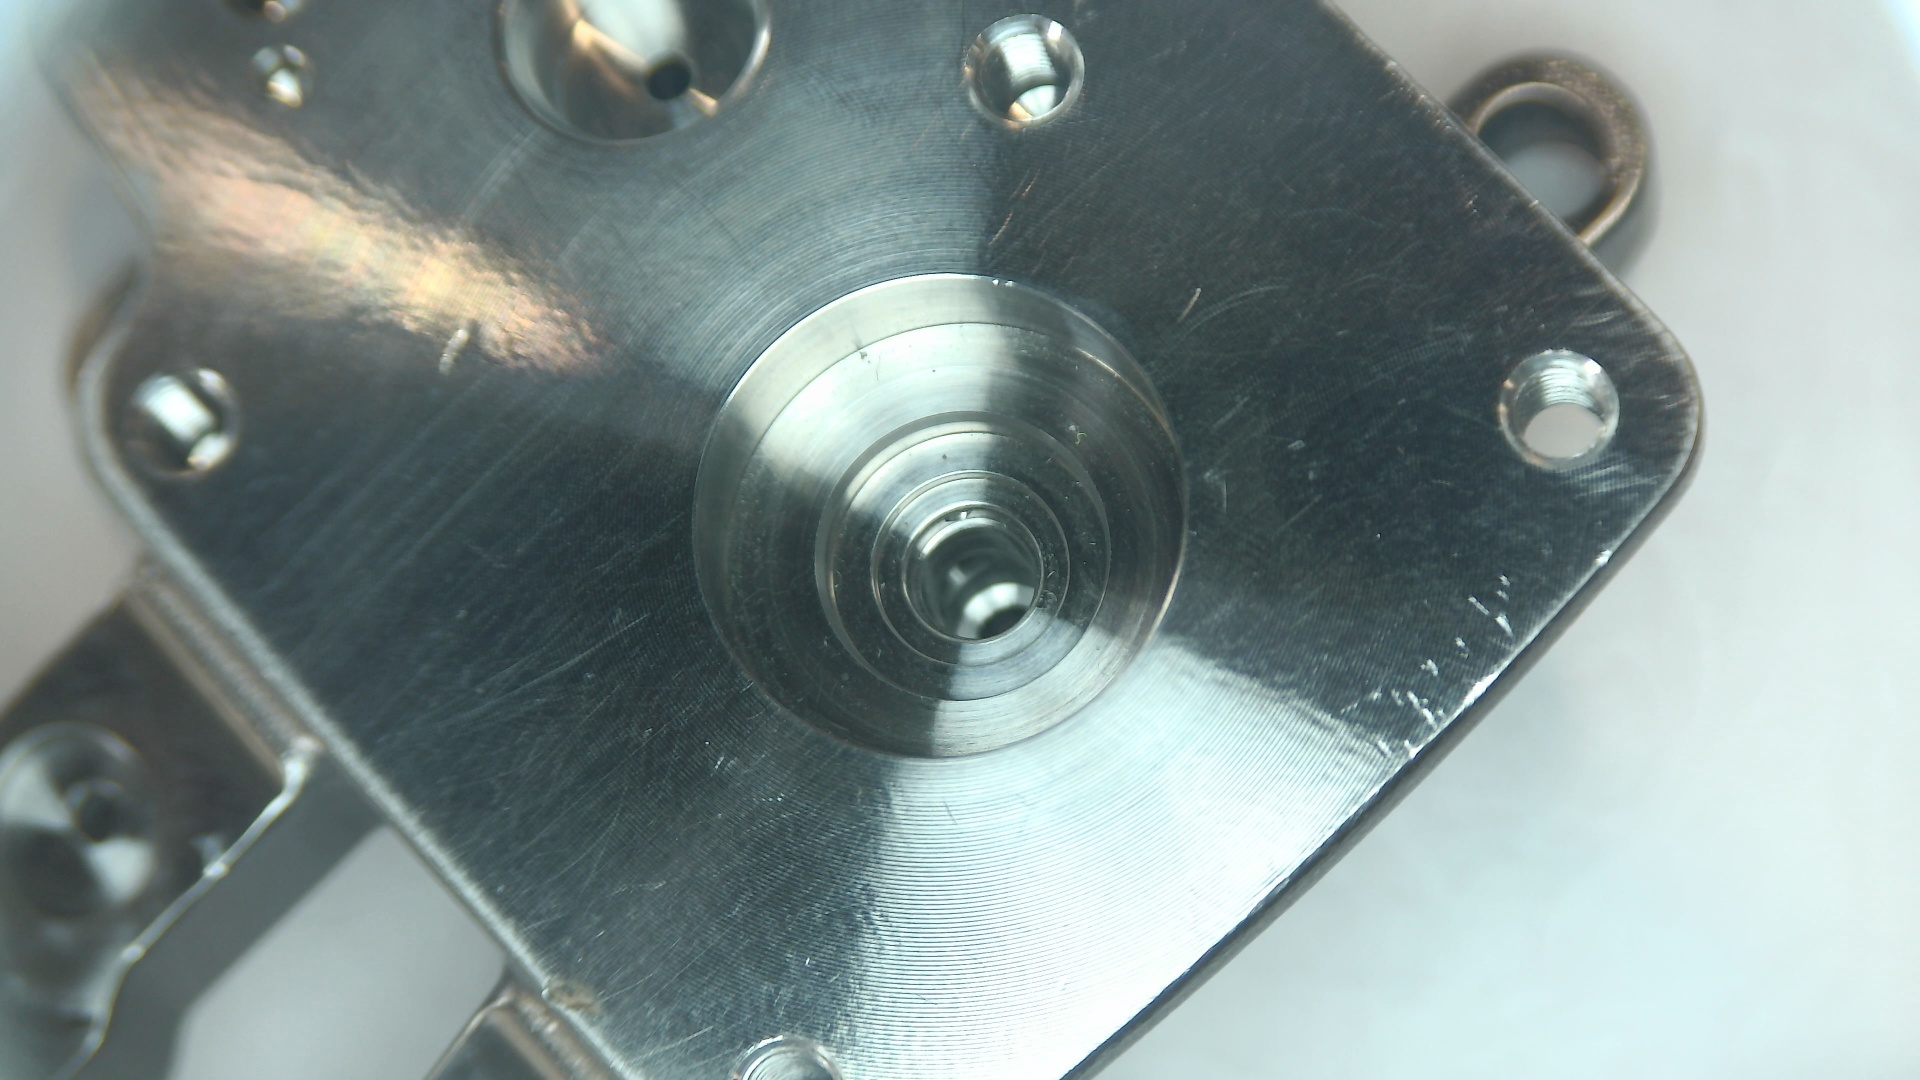burr: (1876, 1006, 1920, 1048)
